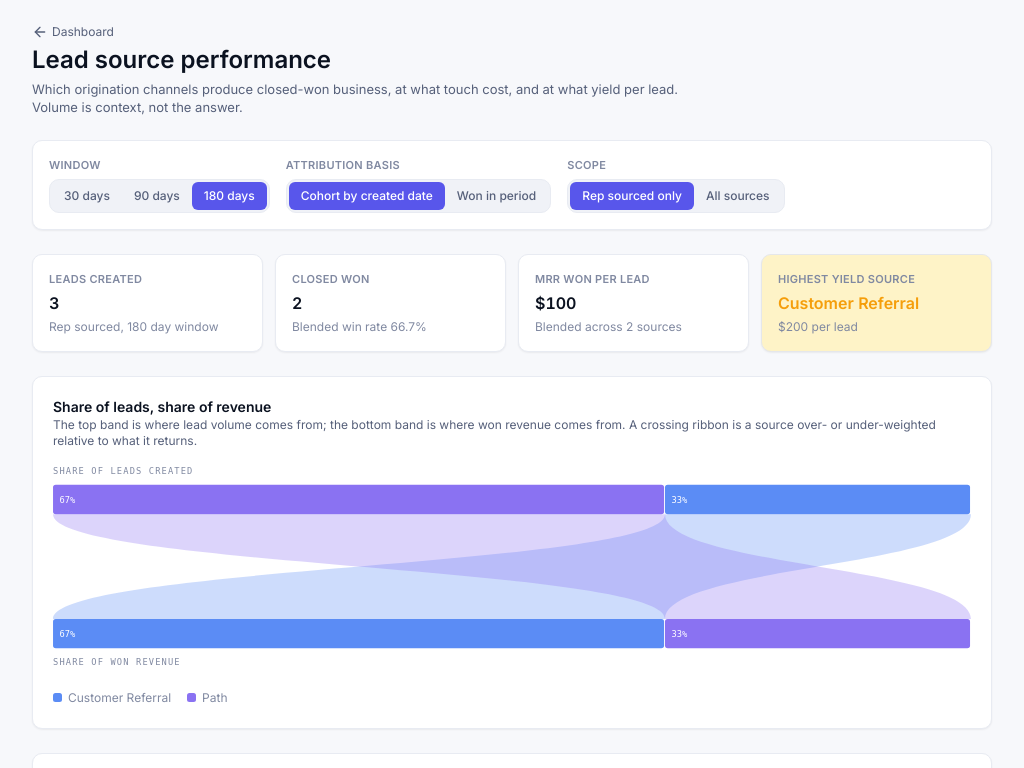
LeadSourceReport › surfaces the mixed-cohort banner on the Won-in-period basis
The width and height of the screenshot is (1024, 768).
Step 1. Click the button "Won in period" → point(496, 196), box [445,182,548,210]
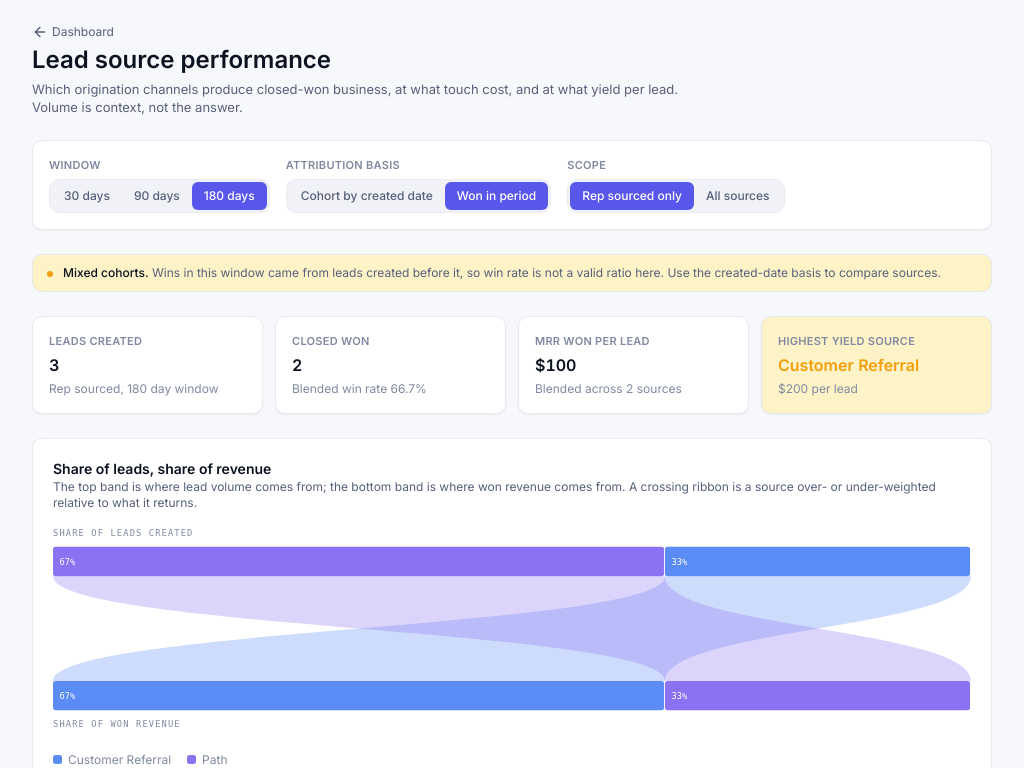
Result: the text "win rate is not a valid ratio" is shown at [149,265,941,280]
